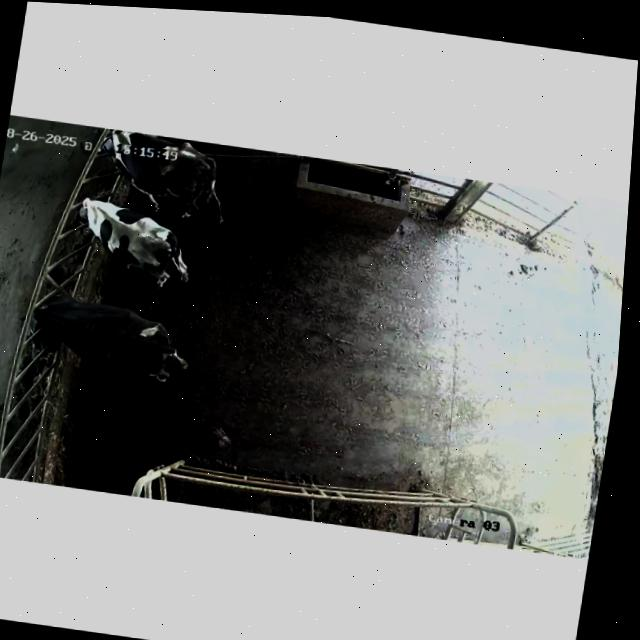eat: (41, 183, 125, 249), (3, 277, 77, 350), (72, 123, 152, 177)
